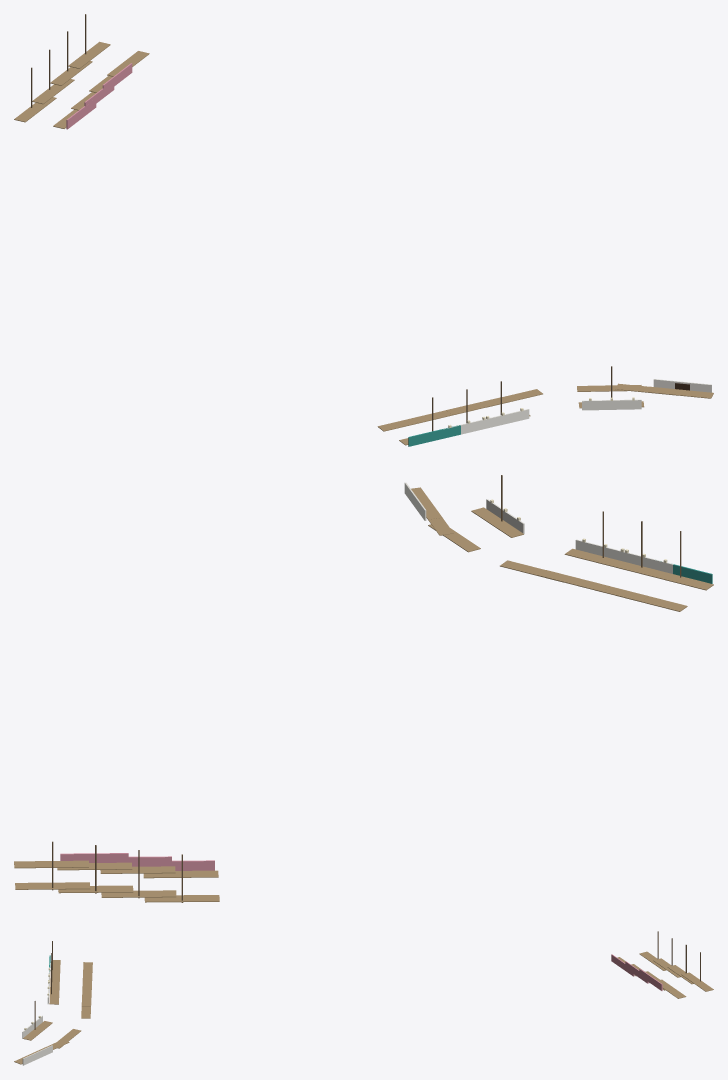
The model's file is noord_res_-26_-24.glb.
3 renders of one model, top to bottom at view 1: azimuth 30°, elevation 25°; view 2: azimuth 150°, elevation 25°; view 3: azimuth 270°, elevation 25°, orthographic. The views are drawn at different scales.
Parts seen in each view (by area): view 1: noord_res_-26_-24_lod0; view 2: noord_res_-26_-24_lod0; view 3: noord_res_-26_-24_lod0.
Part boxes in pixels (x1,y1,x2,y2): noord_res_-26_-24_lod0: [14, 14, 713, 446]; noord_res_-26_-24_lod0: [14, 475, 713, 902]; noord_res_-26_-24_lod0: [14, 931, 713, 1065].
Size of what is drawn, in the model's own units: 61.41 by 15.85 by 178.
